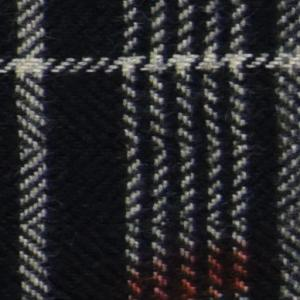Stain: (118, 234, 269, 300)
